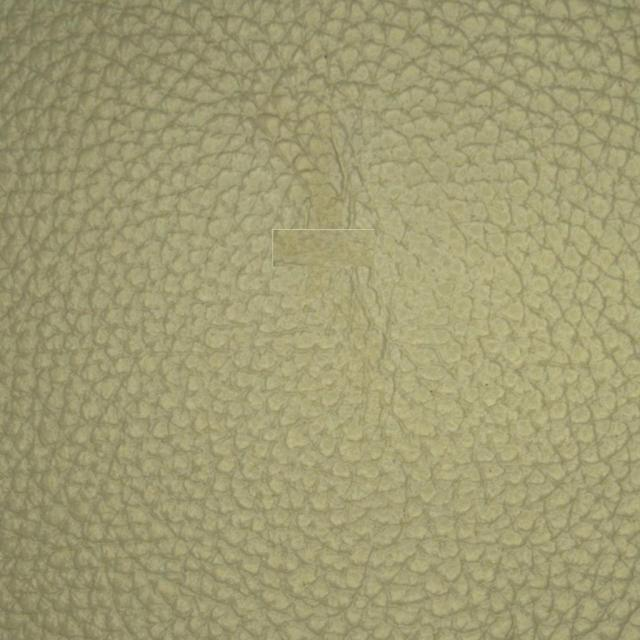Healed Injury: (208, 196, 469, 316)
